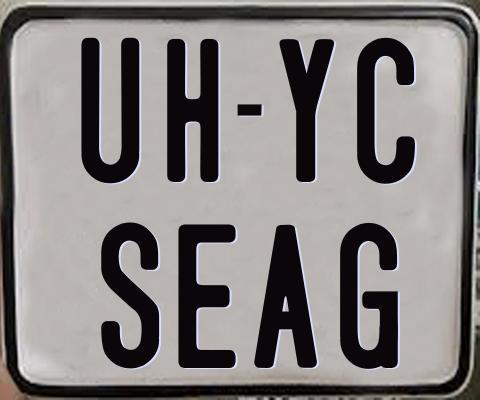A: (254, 222, 323, 368)
C: (356, 38, 417, 189)
E: (176, 223, 235, 370)
G: (339, 223, 399, 369)
H: (165, 38, 219, 183)
S: (101, 220, 164, 370)
U: (78, 37, 140, 188)
Y: (277, 39, 337, 186)
